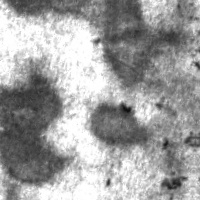inclusion: (157, 168, 188, 195)
patches: (0, 54, 76, 194), (89, 0, 164, 93), (81, 97, 155, 152), (0, 0, 98, 20)
